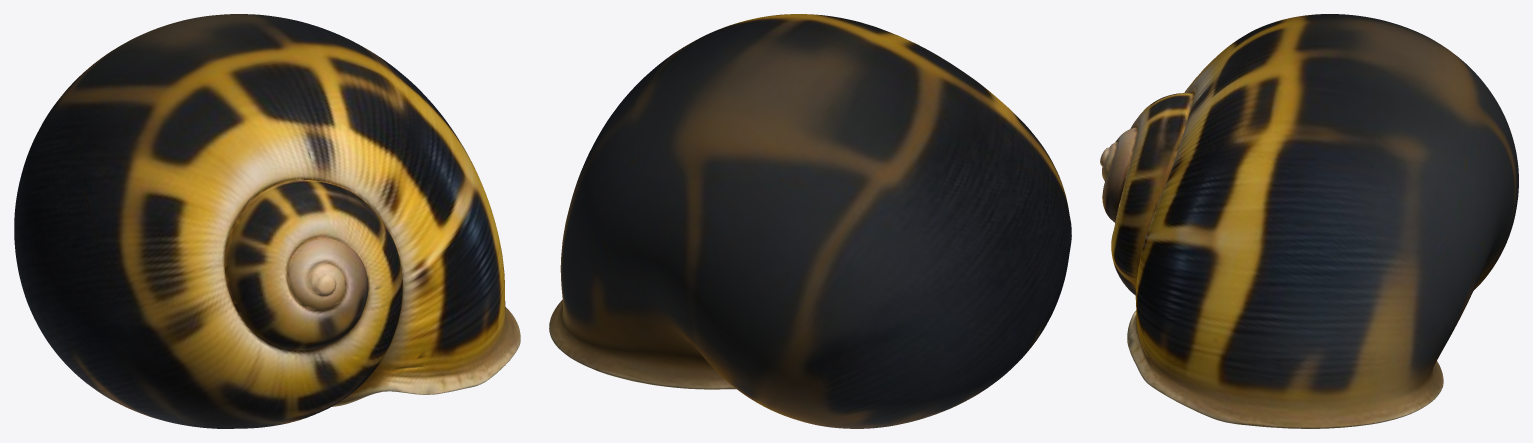
Rendered from snail.glb.
3 views of the same model, side by side, from view 1: azimuth 30°, elevation 25°; view 2: azimuth 150°, elevation 25°; view 3: azimuth 270°, elevation 25° (orthographic). The views are drawn at different scales.
Visible parts, largest first — view 1: node_0; view 2: node_0; view 3: node_0.
Boxes of the visible parts, left/top/right/bottom form: node_0: left=14, top=14, right=520, bottom=428; node_0: left=549, top=14, right=1071, bottom=428; node_0: left=1100, top=14, right=1518, bottom=428.
Bounding box in the file's own units: 1.03 × 0.7491 × 0.9153.
Materials: 1 (1 with a texture image).
